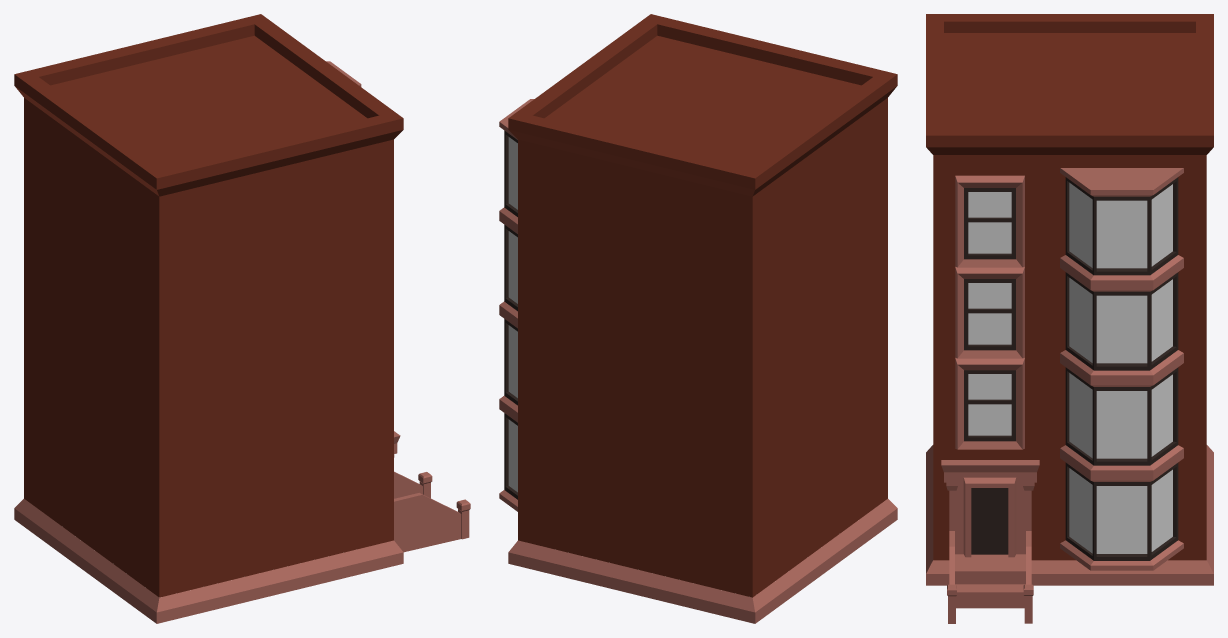
The model's file is building.fbx.
The picture shows the model from 3 angles, left to right: view 1: azimuth 30°, elevation 25°; view 2: azimuth 150°, elevation 25°; view 3: azimuth 270°, elevation 25°; orthographic projection.
Parts seen in each view (by area): view 1: Building Body, Stair Fence, Stair Fence.001; view 2: Building Body, Bay Window.004, Bay Window.001, Bay Window.002, Bay Window.003; view 3: Building Body, Bay Window.004, Bay Window.002, Bay Window.001, Bay Window.003, Window.002, Window, Window.001, Stair Fence, Door Frame, Door Step, First Stair (+1 smaller).
Boxes of the visible parts, x1,y1,x2,y2 form: Building Body: (14,14,403,623); Stair Fence: (394,431,470,552); Stair Fence.001: (394,471,432,498); Building Body: (508,14,897,623); Bay Window.004: (499,99,534,228); Bay Window.001: (499,404,517,511); Bay Window.002: (499,310,517,417); Bay Window.003: (499,216,517,323); Building Body: (926,14,1213,585); Bay Window.004: (1060,168,1183,285); Bay Window.002: (1060,358,1183,475); Bay Window.001: (1060,453,1183,570); Bay Window.003: (1060,263,1183,380); Window.002: (955,175,1024,267); Window: (955,358,1024,449); Window.001: (955,267,1024,358); Stair Fence: (941,460,1039,623); Door Frame: (963,477,1016,557); Door Step: (955,554,1025,584); First Stair: (955,584,1025,608).
Size of the model in its own units: 875 by 1150 by 666.
